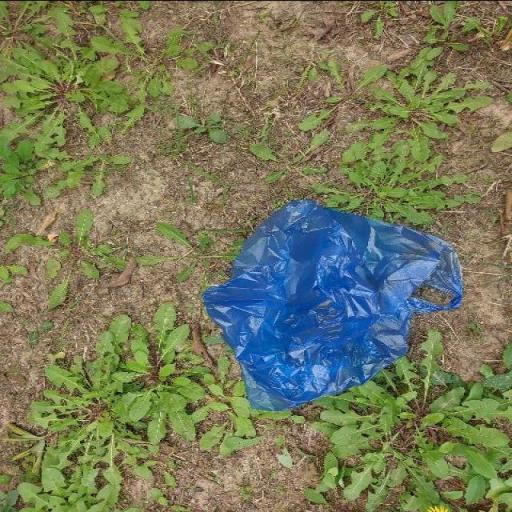plastic-bag: (200, 198, 468, 412)
